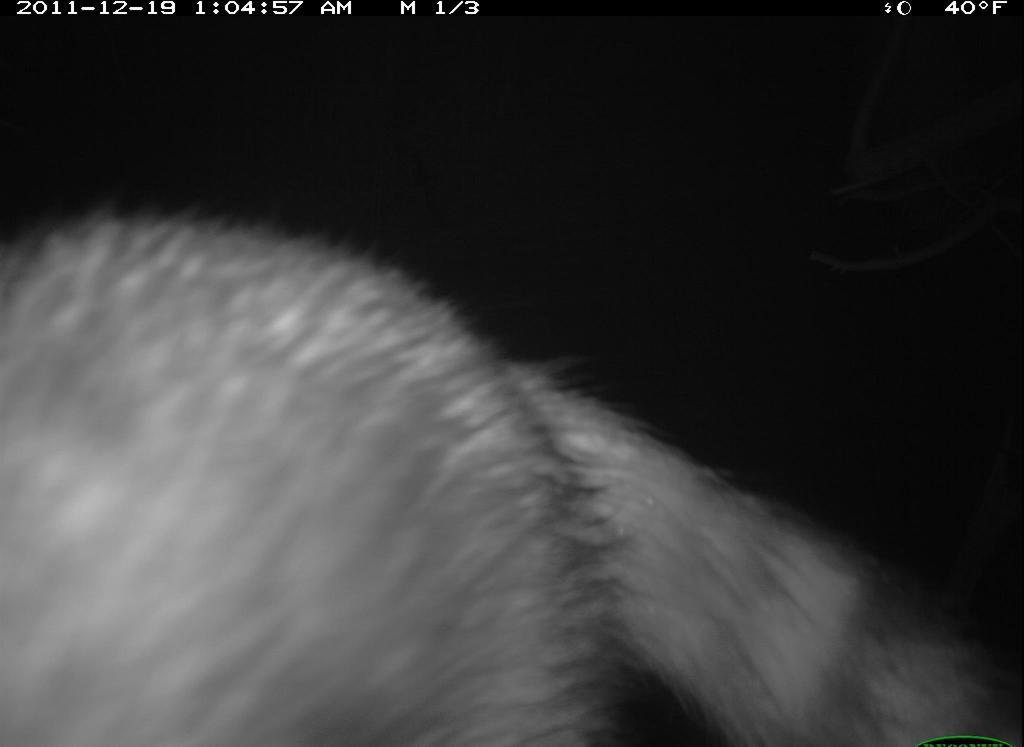raccoon: (1, 195, 1016, 739)
